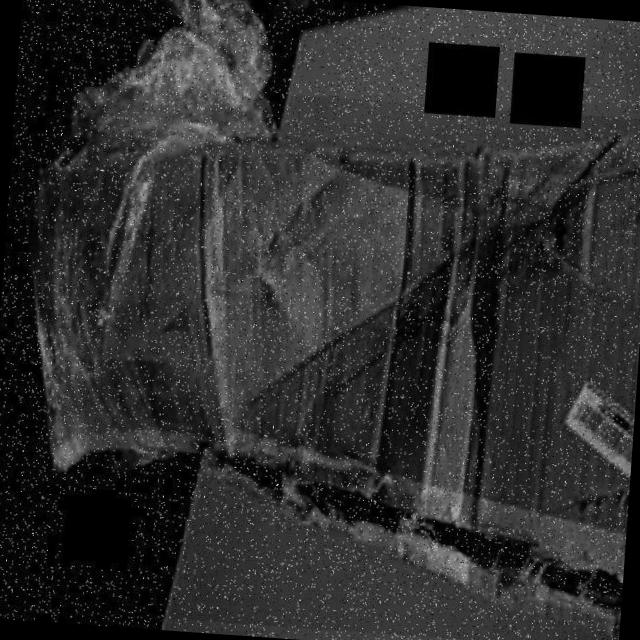box: (3, 76, 640, 640)
